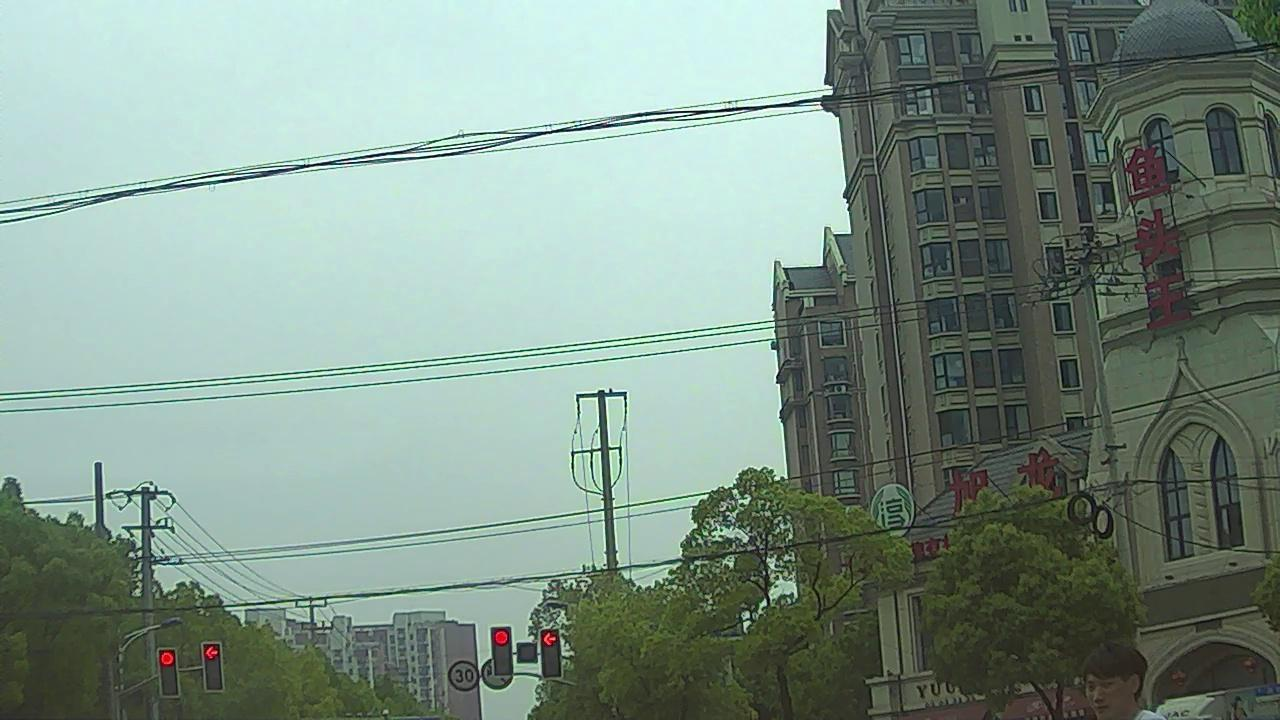traffic_light: (539, 626, 561, 679), (492, 626, 512, 674), (158, 651, 177, 696), (206, 645, 223, 692)
